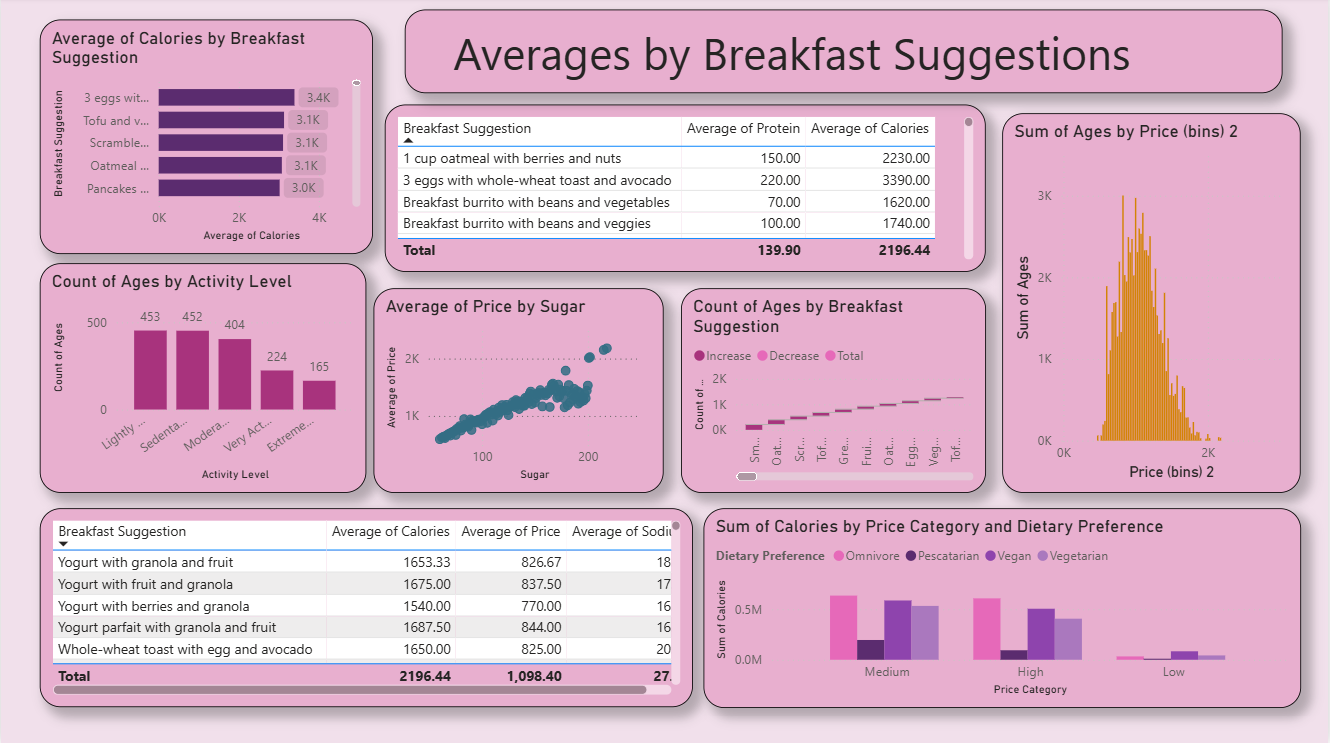

The dashboard page shown, as its layout file describes it:
{"tool":"powerbi","page":{"name":"breakfast suggestions","canvas":[1280,720],"ordinal":2},"visuals":[{"type":"clusteredBarChart","fields":{"Category":["Food_and_Nutrition__.Breakfast Suggestion"],"Y":["Avg(Food_and_Nutrition__.Calories)"]},"box":[37.5,21.6,321.7,226.5],"z":0},{"type":"tableEx","fields":{"Values":["Food_and_Nutrition__.Breakfast Suggestion","Avg(Food_and_Nutrition__.Protein)","Avg(Food_and_Nutrition__.Calories)"]},"box":[370.4,103.8,580.3,161.7],"z":1000},{"type":"clusteredColumnChart","fields":{"Category":["Food_and_Nutrition__.Activity Level"],"Y":["CountNonNull(Food_and_Nutrition__.Ages)"]},"box":[37.4,257,314.9,222],"z":2000},{"type":"scatterChart","fields":{"X":["Food_and_Nutrition__.Sugar"],"Y":["Avg(Food_and_Nutrition__.Price)"]},"box":[359.2,281.3,279.9,197.7],"z":3000},{"type":"waterfallChart","fields":{"Category":["Food_and_Nutrition__.Breakfast Suggestion"],"Y":["CountNonNull(Food_and_Nutrition__.Ages)"]},"box":[656.5,281.3,294.3,197.7],"z":4000},{"type":"clusteredColumnChart","fields":{"Category":["Food_and_Nutrition__.Price (bins) 2"],"Y":["Sum(Food_and_Nutrition__.Ages)"]},"box":[966.4,112.2,288.3,366.8],"z":5000},{"type":"tableEx","fields":{"Values":["Food_and_Nutrition__.Breakfast Suggestion","Avg(Food_and_Nutrition__.Calories)","Avg(Food_and_Nutrition__.Price)","Avg(Food_and_Nutrition__.Sodium)"]},"box":[37.5,493.4,630.5,191.9],"z":6000},{"type":"clusteredColumnChart","fields":{"Category":["Food_and_Nutrition__.Price Category"],"Y":["Sum(Food_and_Nutrition__.Calories)"],"Series":["Food_and_Nutrition__.Dietary Preference"]},"box":[678,493.4,576.7,193],"z":7000},{"type":"textbox","box":[389.7,12.1,846.9,80.8],"z":8000}]}

Visuals, with their boxes in screenshot pixels (x1, y1, x2, y2), scaled from the page's 1280x720 canvas onto the 1330x743 screenshot:
clusteredBarChart - Food_and_Nutrition__.Breakfast Suggestion x Avg(Food_and_Nutrition__.Calories): left=39, top=22, right=373, bottom=256
tableEx - Food_and_Nutrition__.Breakfast Suggestion x Avg(Food_and_Nutrition__.Protein): left=385, top=107, right=988, bottom=274
clusteredColumnChart - Food_and_Nutrition__.Activity Level x CountNonNull(Food_and_Nutrition__.Ages): left=39, top=265, right=366, bottom=494
scatterChart - Food_and_Nutrition__.Sugar x Avg(Food_and_Nutrition__.Price): left=373, top=290, right=664, bottom=494
waterfallChart - Food_and_Nutrition__.Breakfast Suggestion x CountNonNull(Food_and_Nutrition__.Ages): left=682, top=290, right=988, bottom=494
clusteredColumnChart - Food_and_Nutrition__.Price (bins) 2 x Sum(Food_and_Nutrition__.Ages): left=1004, top=116, right=1304, bottom=494
tableEx - Food_and_Nutrition__.Breakfast Suggestion x Avg(Food_and_Nutrition__.Calories): left=39, top=509, right=694, bottom=707
clusteredColumnChart - Food_and_Nutrition__.Price Category x Sum(Food_and_Nutrition__.Calories): left=704, top=509, right=1304, bottom=708
textbox: left=405, top=12, right=1285, bottom=96
